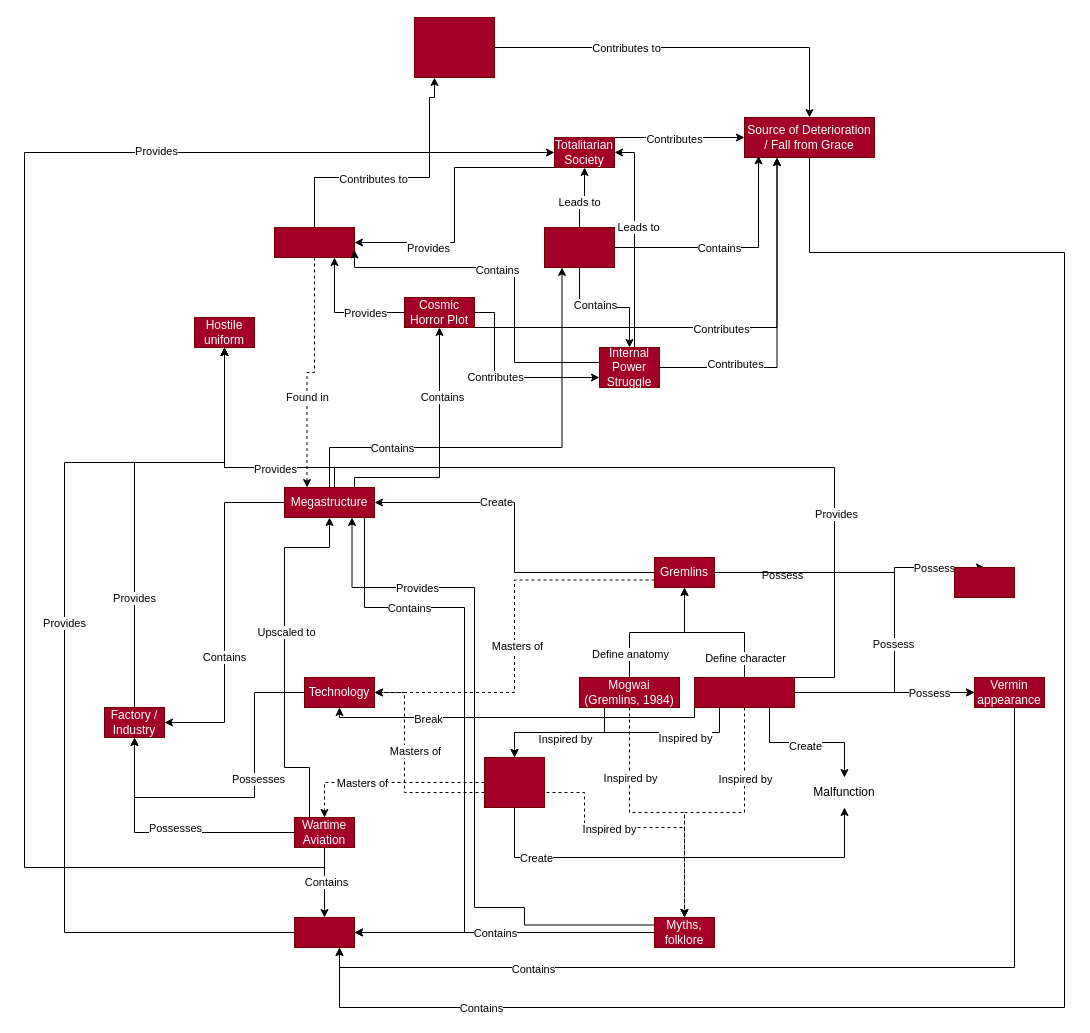
This 1090x1033 diagram has some shape labels left out. Each missing label, with the centre of its shape:
"Aviation Folklore Gremlins" belongs at [514,782].
"Comic relief" belongs at [984,582].
"Deterioration" belongs at [314,242].
"Forgotten Empire / Lost Grace" belongs at [579,247].
"Gremlins (Gremlins, 1984)" belongs at [744,692].
"Horror" belongs at [324,932].
"Internal Conflict and Enemy" belongs at [454,47].
